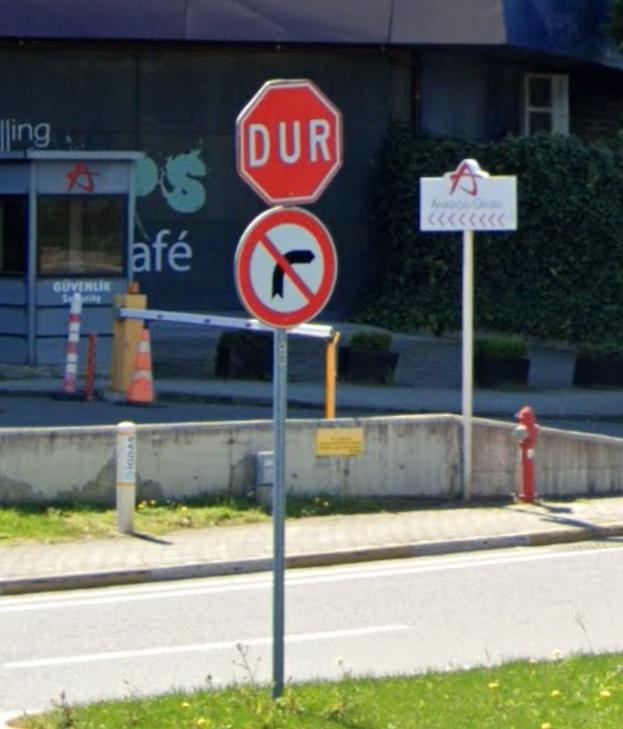rightturnsareforbidden: (240, 209, 334, 322)
stop: (235, 79, 344, 201)
